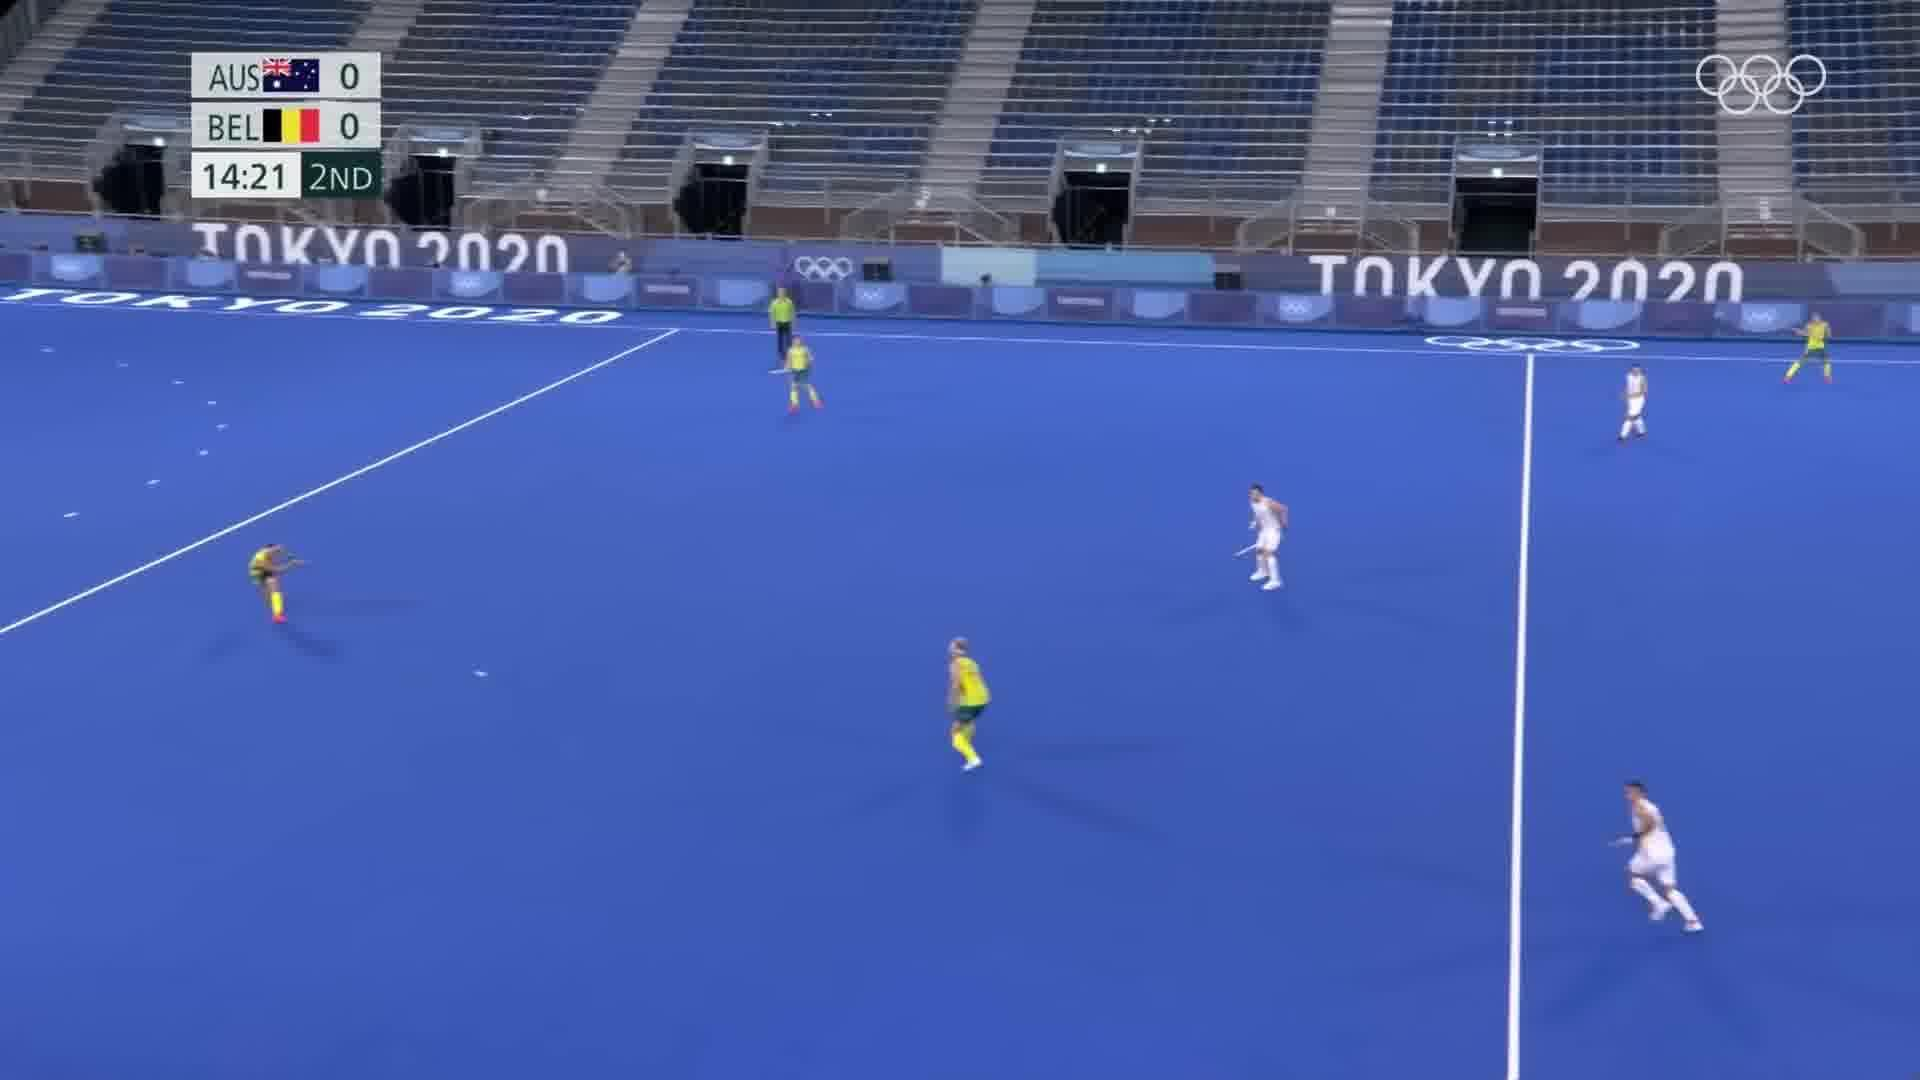ball: (460, 659, 496, 688)
